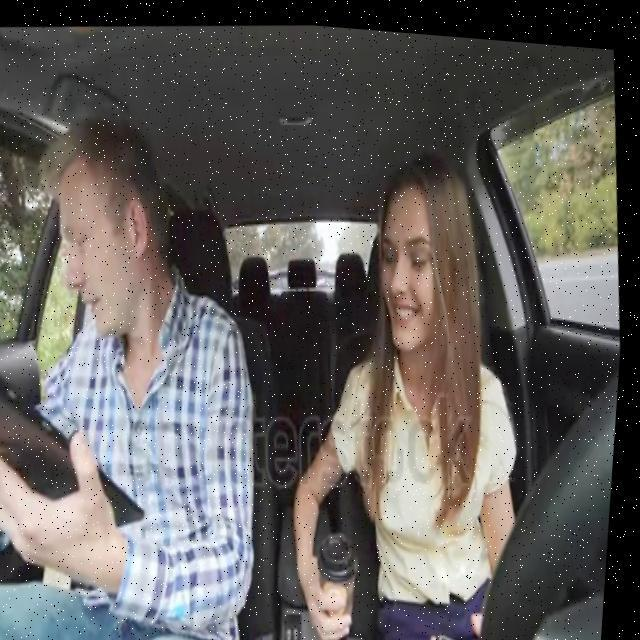Drinking: (318, 526, 371, 624)
PhoneCall: (441, 610, 489, 640)
